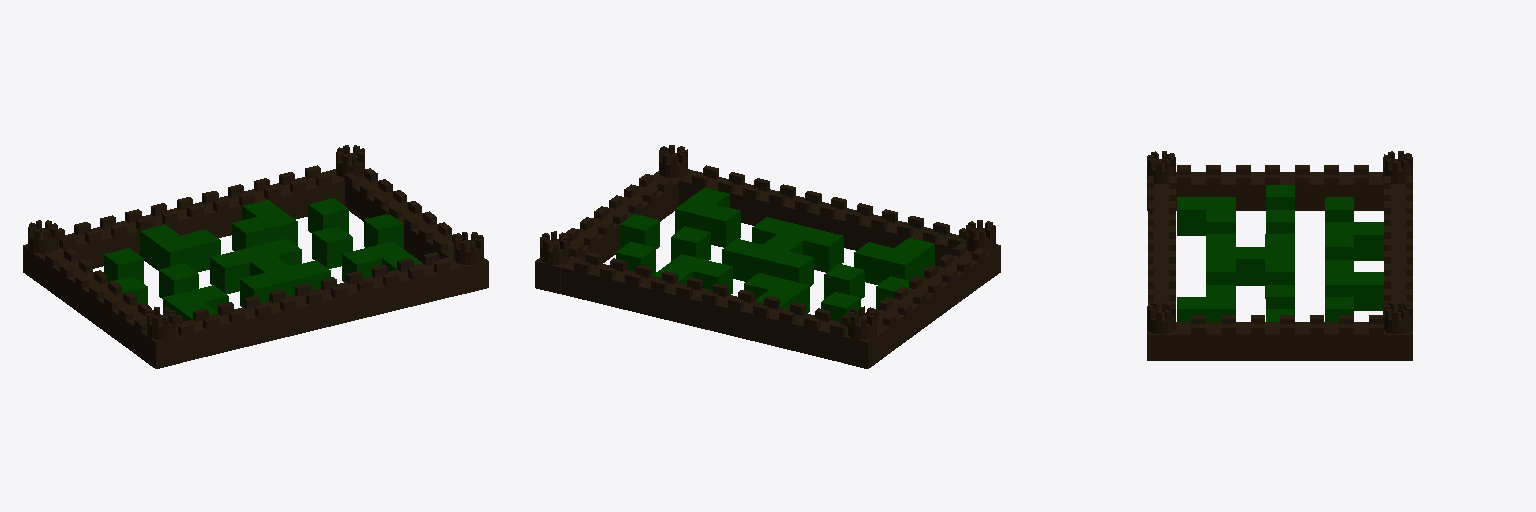
Rendered from maze3.obj.
3 views of the same model, side by side, from view 1: azimuth 30°, elevation 25°; view 2: azimuth 150°, elevation 25°; view 3: azimuth 270°, elevation 25° (orthographic).
Parts seen in each view (by area): view 1: maze_Plane.001, wall_front_Plane, wall_back_Plane.002, wall_left_Plane.004, wall_right_Plane.003; view 2: maze_Plane.001, wall_back_Plane.002, wall_front_Plane, wall_left_Plane.004, wall_right_Plane.003; view 3: maze_Plane.001, wall_right_Plane.003, wall_left_Plane.004, wall_back_Plane.002, wall_front_Plane.
Part boxes in pixels (x1,y1,x2,y2): maze_Plane.001: (104, 198, 421, 321); wall_front_Plane: (141, 232, 488, 368); wall_back_Plane.002: (23, 145, 364, 282); wall_left_Plane.004: (38, 249, 160, 357); wall_right_Plane.003: (345, 168, 460, 262); maze_Plane.001: (616, 187, 934, 321); wall_back_Plane.002: (535, 231, 882, 368); wall_front_Plane: (654, 145, 1000, 282); wall_left_Plane.004: (865, 243, 985, 357); wall_right_Plane.003: (557, 174, 678, 263); maze_Plane.001: (1177, 185, 1383, 321); wall_right_Plane.003: (1177, 315, 1383, 360); wall_left_Plane.004: (1177, 165, 1383, 210); wall_back_Plane.002: (1383, 151, 1412, 360); wall_front_Plane: (1147, 151, 1176, 360).
Size of the model in its own units: 26.05 by 3.6 by 18.01.